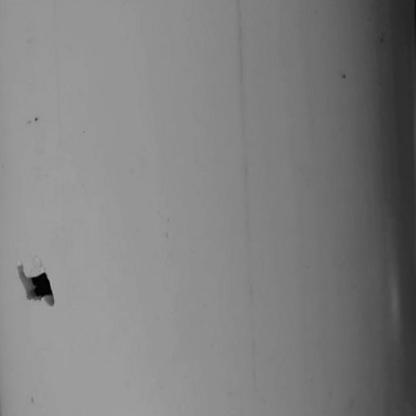kongdong: (10, 258, 62, 307)
